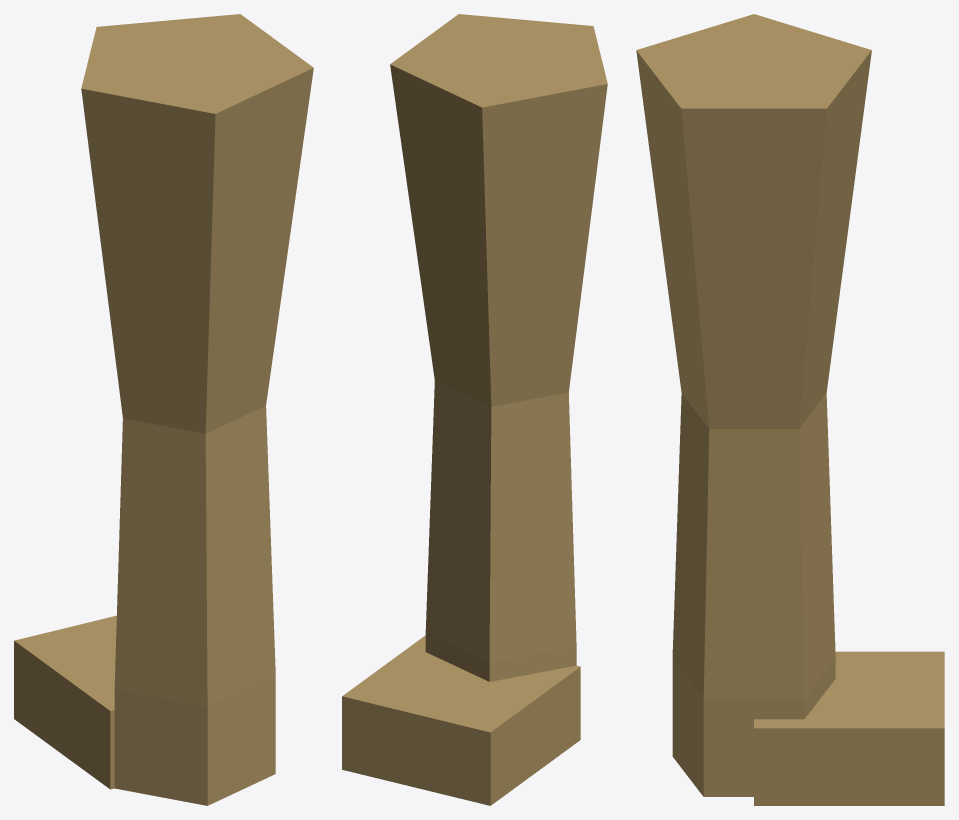
Rendered from animal_labrador_leg.obj.
3 renders of one model, left to right at view 1: azimuth 30°, elevation 25°; view 2: azimuth 150°, elevation 25°; view 3: azimuth 270°, elevation 25°, orthographic. The views are drawn at different scales.
Visible parts, largest first — view 1: animal_labrador_leg; view 2: animal_labrador_leg; view 3: animal_labrador_leg.
Boxes of the visible parts, box(x1,y1,x2,y2) form: animal_labrador_leg: box(14, 14, 313, 805); animal_labrador_leg: box(342, 14, 607, 805); animal_labrador_leg: box(636, 14, 944, 805).
Size of the model in its own units: 0.0964 by 0.3329 by 0.1327.
